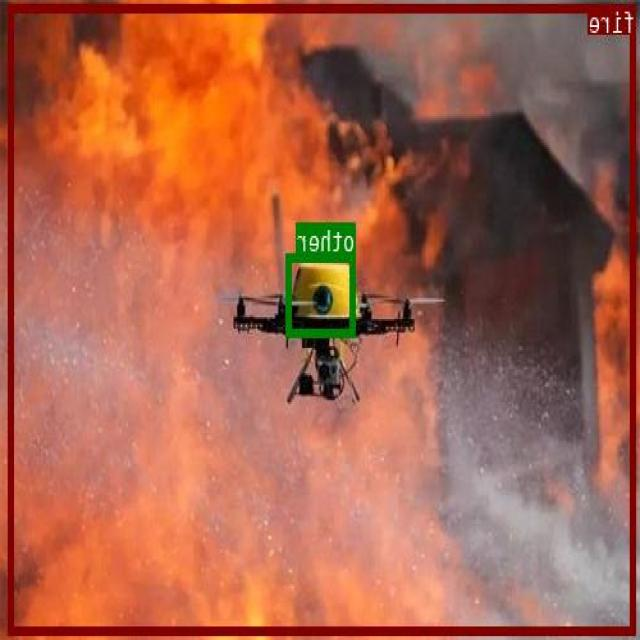fire: (10, 2, 636, 634)
other: (287, 253, 356, 336)
